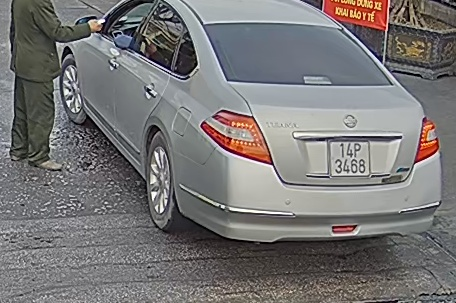vehicle plate: (321, 134, 377, 180)
